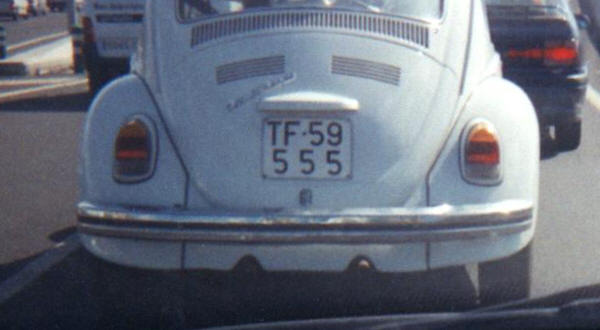license_plate: (260, 117, 353, 181)
